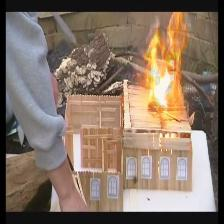fire: (135, 16, 196, 127)
